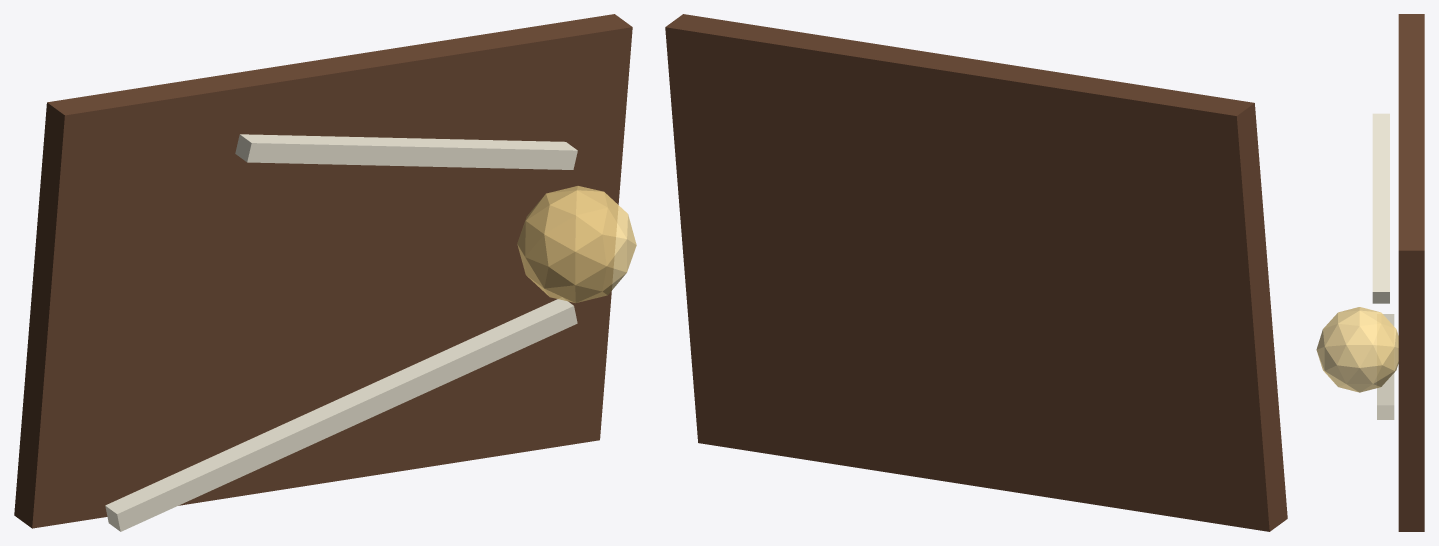
File: 02_world_prop_polish.glb
3 views of the same model, side by side, from view 1: azimuth 30°, elevation 25°; view 2: azimuth 150°, elevation 25°; view 3: azimuth 270°, elevation 25° (orthographic). The views are drawn at different scales.
Visible parts, largest first — view 1: object_overlay_plate, edge_wear_a, glow_socket, edge_wear_b; view 2: object_overlay_plate; view 3: object_overlay_plate, glow_socket, edge_wear_b, edge_wear_a.
Boxes of the visible parts, x1,y1,x2,y2 form: object_overlay_plate: [14, 14, 632, 528]; edge_wear_a: [105, 298, 577, 531]; glow_socket: [517, 186, 636, 302]; edge_wear_b: [235, 134, 577, 169]; object_overlay_plate: [665, 14, 1287, 531]; object_overlay_plate: [1398, 14, 1424, 531]; glow_socket: [1316, 307, 1398, 392]; edge_wear_b: [1372, 113, 1389, 303]; edge_wear_a: [1377, 314, 1394, 419].
Bounding box in the file's own units: 1.16 × 0.84 × 0.25.
